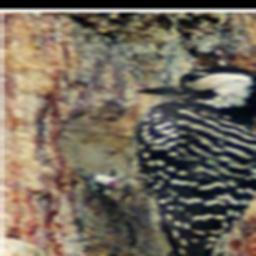Woodpecker: (66, 57, 256, 256)
